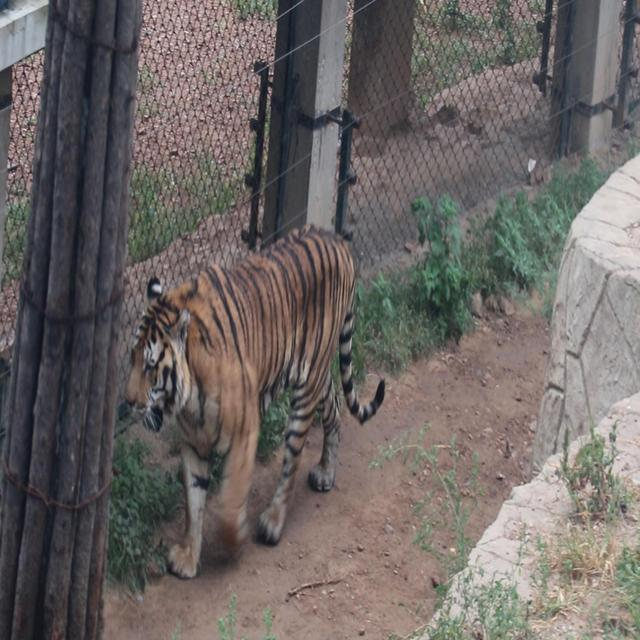tiger: (120, 222, 385, 579)
